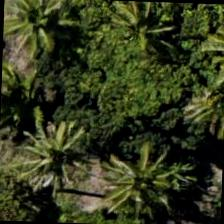Kelapa_Sawit: (0, 112, 93, 205), (93, 142, 187, 223), (97, 0, 190, 65), (2, 0, 85, 66)
